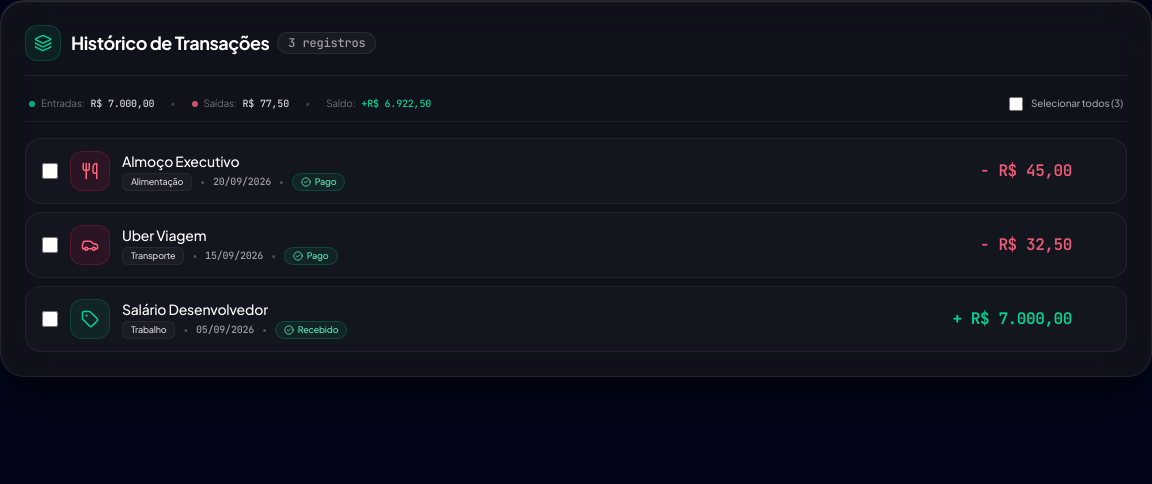
<TransactionList /> (Ações Rápidas no Extrato & Seleção em Massa) › deve permitir selecionar itens e exibir a barra de ações em massa
# Selecionar o primeiro item
Click the checkbox with test id "checkbox-select-tx-1" at (50, 171), box [42,163,58,179]
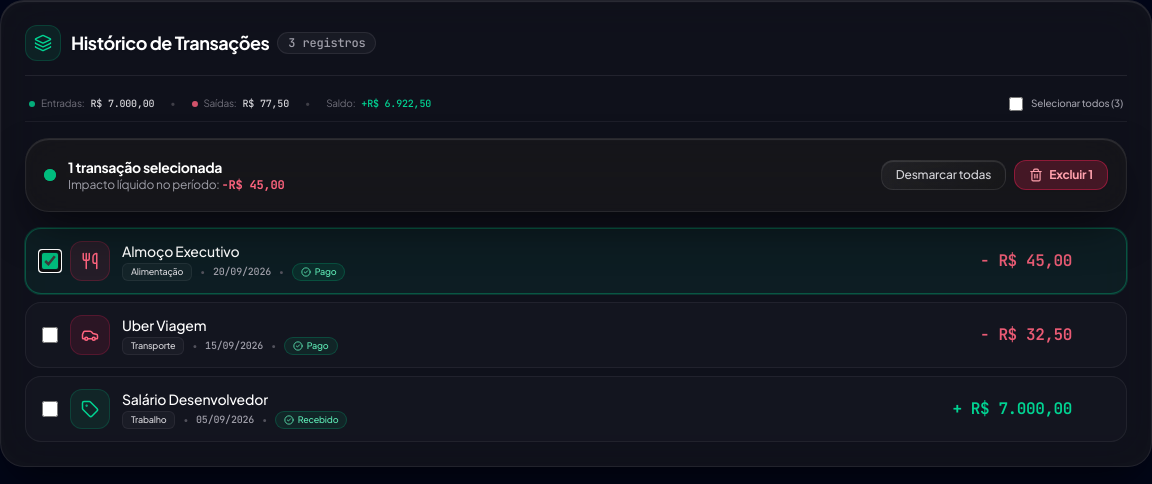
Expected: the element with test id "bulk-action-bar" is shown, [25,138,1127,212]
Expected: the text "1 transação selecionada" is shown, [68,158,222,176]
# Selecionar o segundo item
Click the checkbox with test id "checkbox-select-tx-2" at (50, 409), box [42,401,58,417]
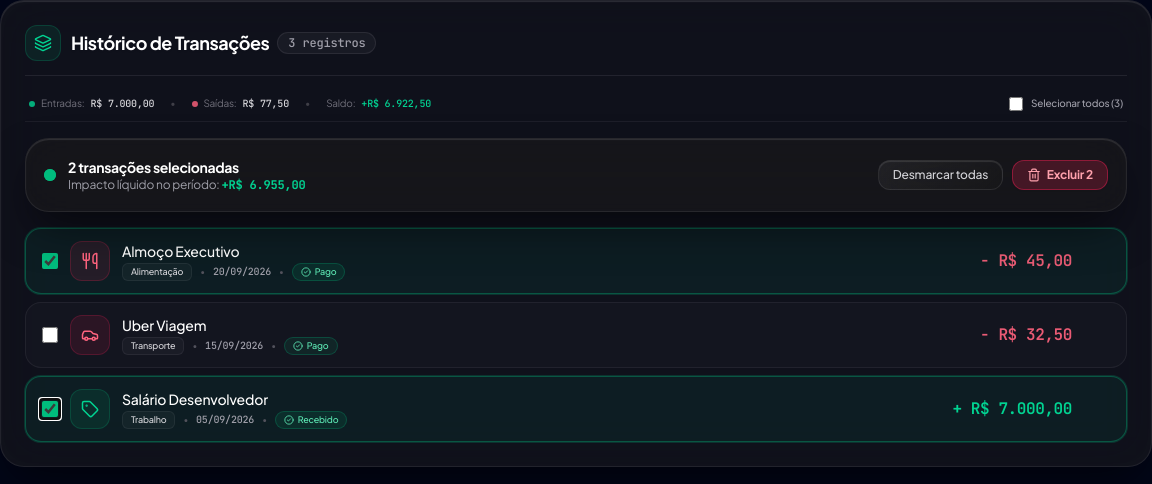
Expected: the text "2 transações selecionadas" is shown, [68,158,239,176]
# Clicar em "Desmarcar todas"
Click the button "Desmarcar todas" at (941, 175), box [878,160,1004,190]
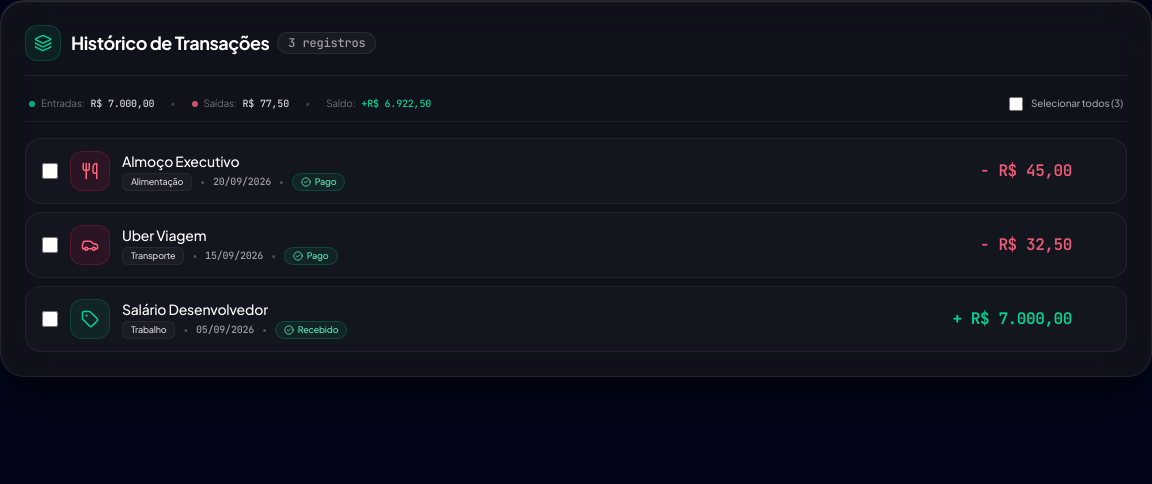
Expected: the element with test id "bulk-action-bar" is gone
